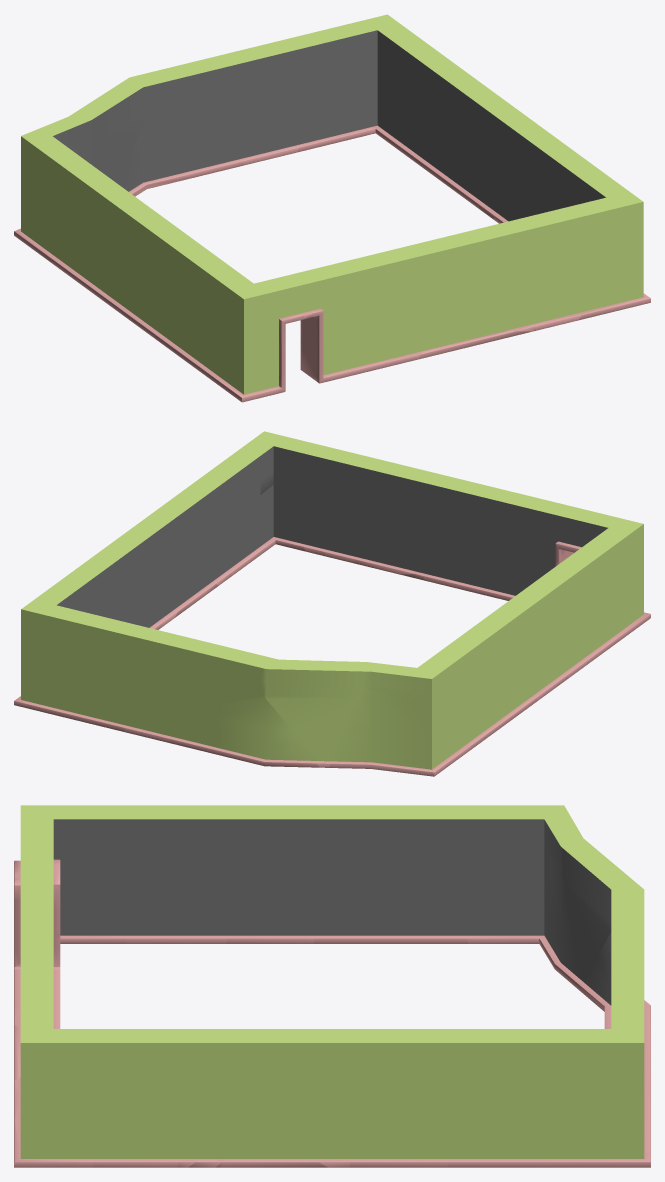
The model's file is Bedroom_1_Fractured.fbx.
3 views of the same model, one above another, from view 1: azimuth 30°, elevation 25°; view 2: azimuth 150°, elevation 25°; view 3: azimuth 270°, elevation 25° (orthographic). The views are drawn at different scales.
Visible parts, largest first — view 1: polySurface501, polySurface492, polySurface485, polySurface470, polySurface499, polySurface483, polySurface516, polySurface474, polySurface467, polySurface489, polySurface471, polySurface475 (+33 smaller); view 2: polySurface484, polySurface492, polySurface489, polySurface501, polySurface499, polySurface467, polySurface483, polySurface485, polySurface516, polySurface500, polySurface471, polySurface475 (+32 smaller); view 3: polySurface485, polySurface471, polySurface484, polySurface483, polySurface505, polySurface463, polySurface468, polySurface502, polySurface473, polySurface509, polySurface511, polySurface508 (+29 smaller).
Boxes of the visible parts, x1,y1,x2,y2 form: polySurface501: (489,204,603,330); polySurface492: (437,226,535,331); polySurface485: (51,174,125,314); polySurface470: (196,293,285,402); polySurface499: (299,14,389,131); polySurface483: (21,113,103,218); polySurface516: (227,74,299,165); polySurface474: (203,266,304,350); polySurface467: (120,103,194,196); polySurface489: (73,76,154,185); polySurface471: (153,269,203,368); polySurface475: (247,30,338,104); polySurface484: (329,687,472,776); polySurface492: (354,464,460,574); polySurface489: (260,657,363,767); polySurface501: (299,440,397,563); polySurface499: (21,606,120,708); polySurface467: (215,689,319,767); polySurface483: (362,632,486,708); polySurface485: (466,624,536,749); polySurface516: (120,660,183,742); polySurface500: (424,474,530,545); polySurface471: (557,570,607,678); polySurface475: (83,614,169,686); polySurface485: (313,805,468,943); polySurface471: (119,837,241,943); polySurface484: (452,857,580,986); polySurface483: (419,805,587,878); polySurface505: (300,1029,406,1136); polySurface463: (537,1062,650,1167); polySurface468: (176,1029,303,1108); polySurface502: (79,1029,181,1115); polySurface473: (229,1056,356,1167); polySurface509: (524,1026,637,1141); polySurface511: (226,864,330,943); polySurface508: (92,1089,197,1167).
Bounding box in the file's own units: 17.34 × 4.06 × 19.19.
